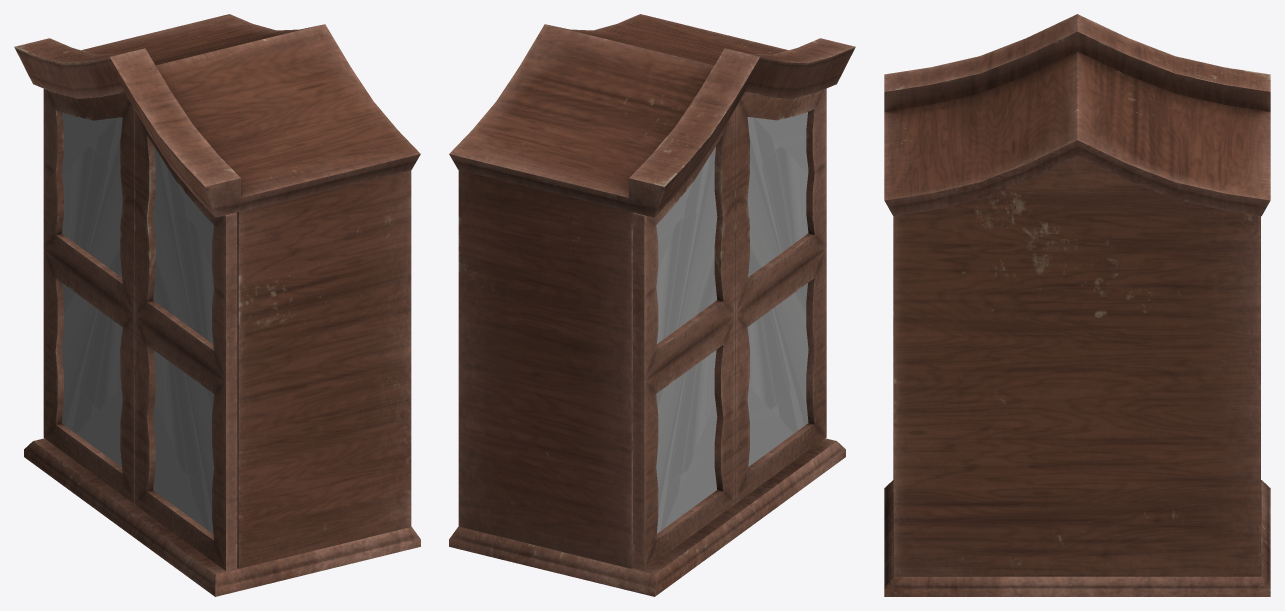
Rendered from Cupboard T.FBX.
3 views of the same model, side by side, from view 1: azimuth 30°, elevation 25°; view 2: azimuth 150°, elevation 25°; view 3: azimuth 270°, elevation 25° (orthographic).
Parts seen in each view (by area): view 1: Lowpoly, Door Right, Door Left; view 2: Lowpoly, Door Left, Door Right; view 3: Lowpoly.
Boxes of the visible parts, x1=… form: Lowpoly: x1=14, y1=14, x2=420, y2=596; Door Right: x1=135, y1=110, x2=237, y2=570; Door Left: x1=43, y1=89, x2=134, y2=503; Lowpoly: x1=449, y1=14, x2=855, y2=596; Door Left: x1=633, y1=109, x2=735, y2=570; Door Right: x1=735, y1=88, x2=826, y2=503; Lowpoly: x1=884, y1=14, x2=1270, y2=596.
Size of the model in its own units: 37.72 by 79.02 by 58.
